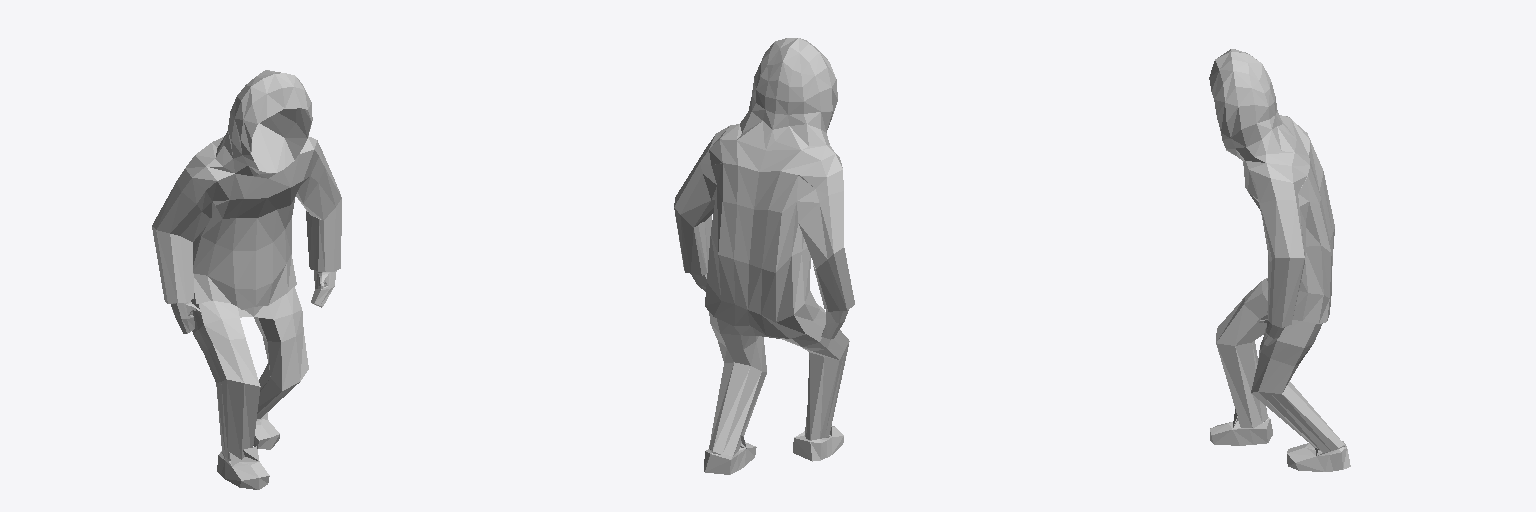
Rendered from Shadowmanv_000005.obj.
The picture shows the model from 3 angles: view 1: azimuth 30°, elevation 25°; view 2: azimuth 150°, elevation 25°; view 3: azimuth 270°, elevation 25°; orthographic projection.
Parts seen in each view (by area): view 1: Cube.000; view 2: Cube.000; view 3: Cube.000.
Part boxes in pixels (left/top/right/bottom): Cube.000: left=152, top=70, right=341, bottom=489; Cube.000: left=674, top=38, right=854, bottom=474; Cube.000: left=1209, top=49, right=1350, bottom=471.
Bounding box in the file's own units: 4.96 × 10.85 × 3.46.